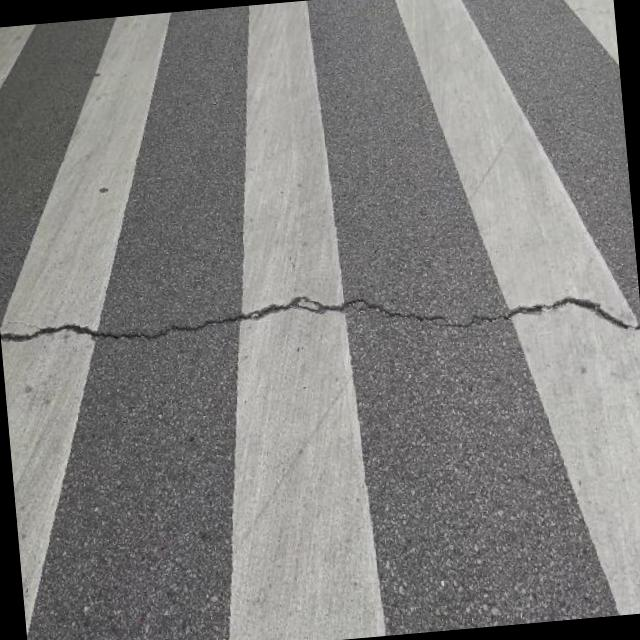Retak-Melintang: (0, 292, 638, 346)
